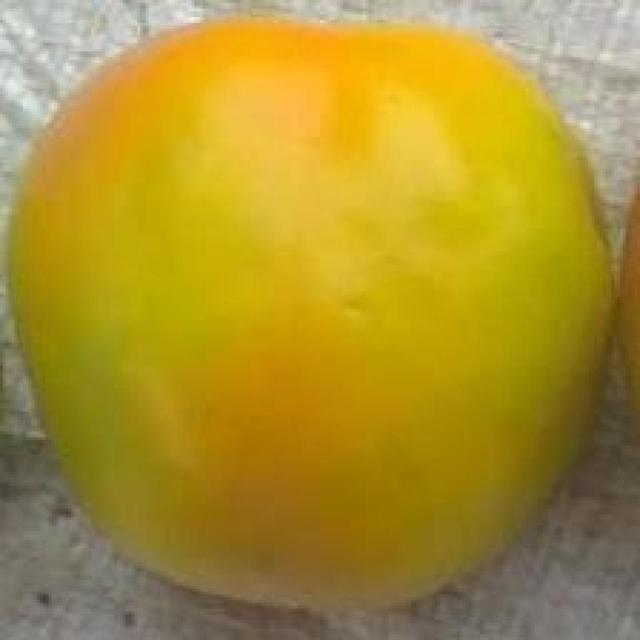Spotted wilt Virus Fruit: (4, 10, 410, 409)
